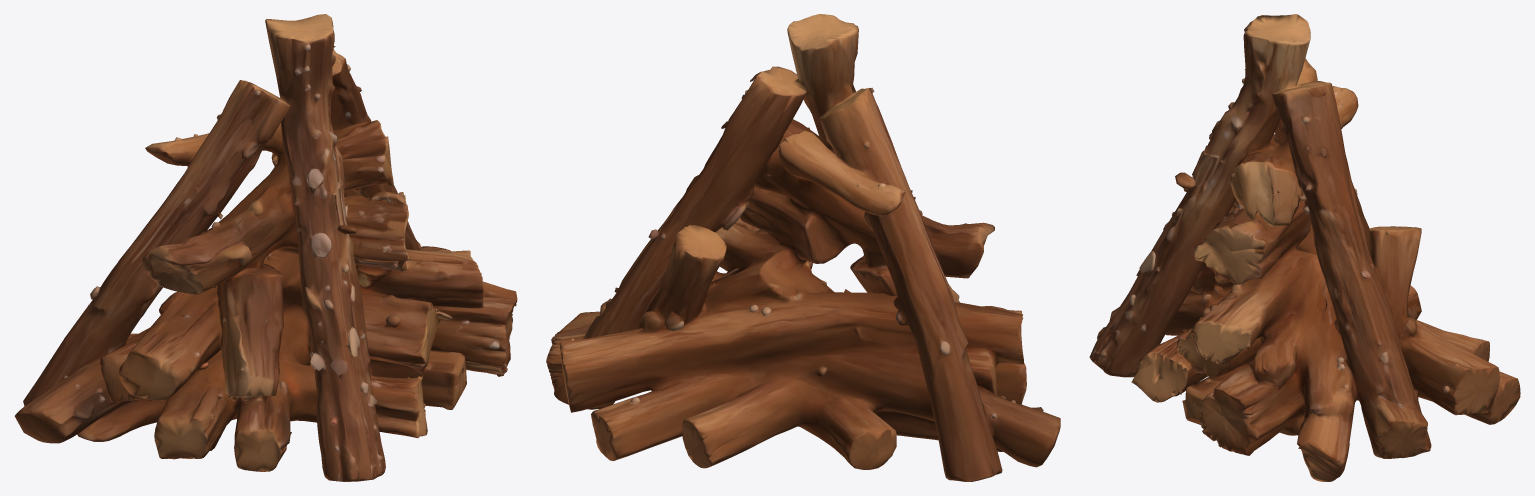
Rendered from festa_fogueira.glb.
3 views of the same model, side by side, from view 1: azimuth 30°, elevation 25°; view 2: azimuth 150°, elevation 25°; view 3: azimuth 270°, elevation 25° (orthographic). The views are drawn at different scales.
Parts seen in each view (by area): view 1: tripo_node_a70b038f-746f-47b5-b4ed-3e23cd84fc64; view 2: tripo_node_a70b038f-746f-47b5-b4ed-3e23cd84fc64; view 3: tripo_node_a70b038f-746f-47b5-b4ed-3e23cd84fc64.
Boxes of the visible parts, <box> form: tripo_node_a70b038f-746f-47b5-b4ed-3e23cd84fc64: <box>14,14,517,481</box>; tripo_node_a70b038f-746f-47b5-b4ed-3e23cd84fc64: <box>546,14,1060,481</box>; tripo_node_a70b038f-746f-47b5-b4ed-3e23cd84fc64: <box>1089,14,1520,481</box>.
Size of the model in its own units: 0.9801 by 0.72 by 0.7868.
Materials: 1 (1 with a texture image).
